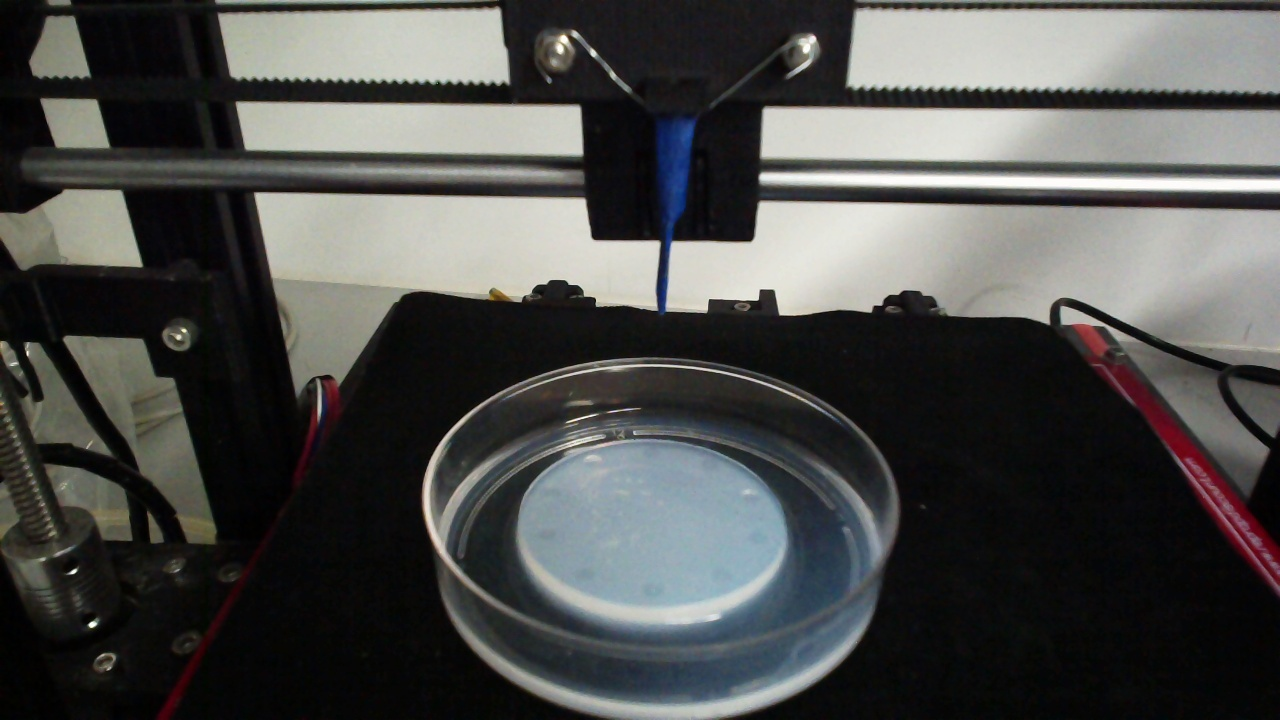groove: (708, 567, 735, 586), (746, 527, 771, 547), (737, 487, 765, 504), (641, 580, 666, 598), (697, 455, 723, 472), (571, 566, 594, 584), (581, 453, 605, 470), (538, 483, 560, 500), (533, 528, 556, 543), (640, 446, 662, 460)
needle: (656, 120, 695, 316)
